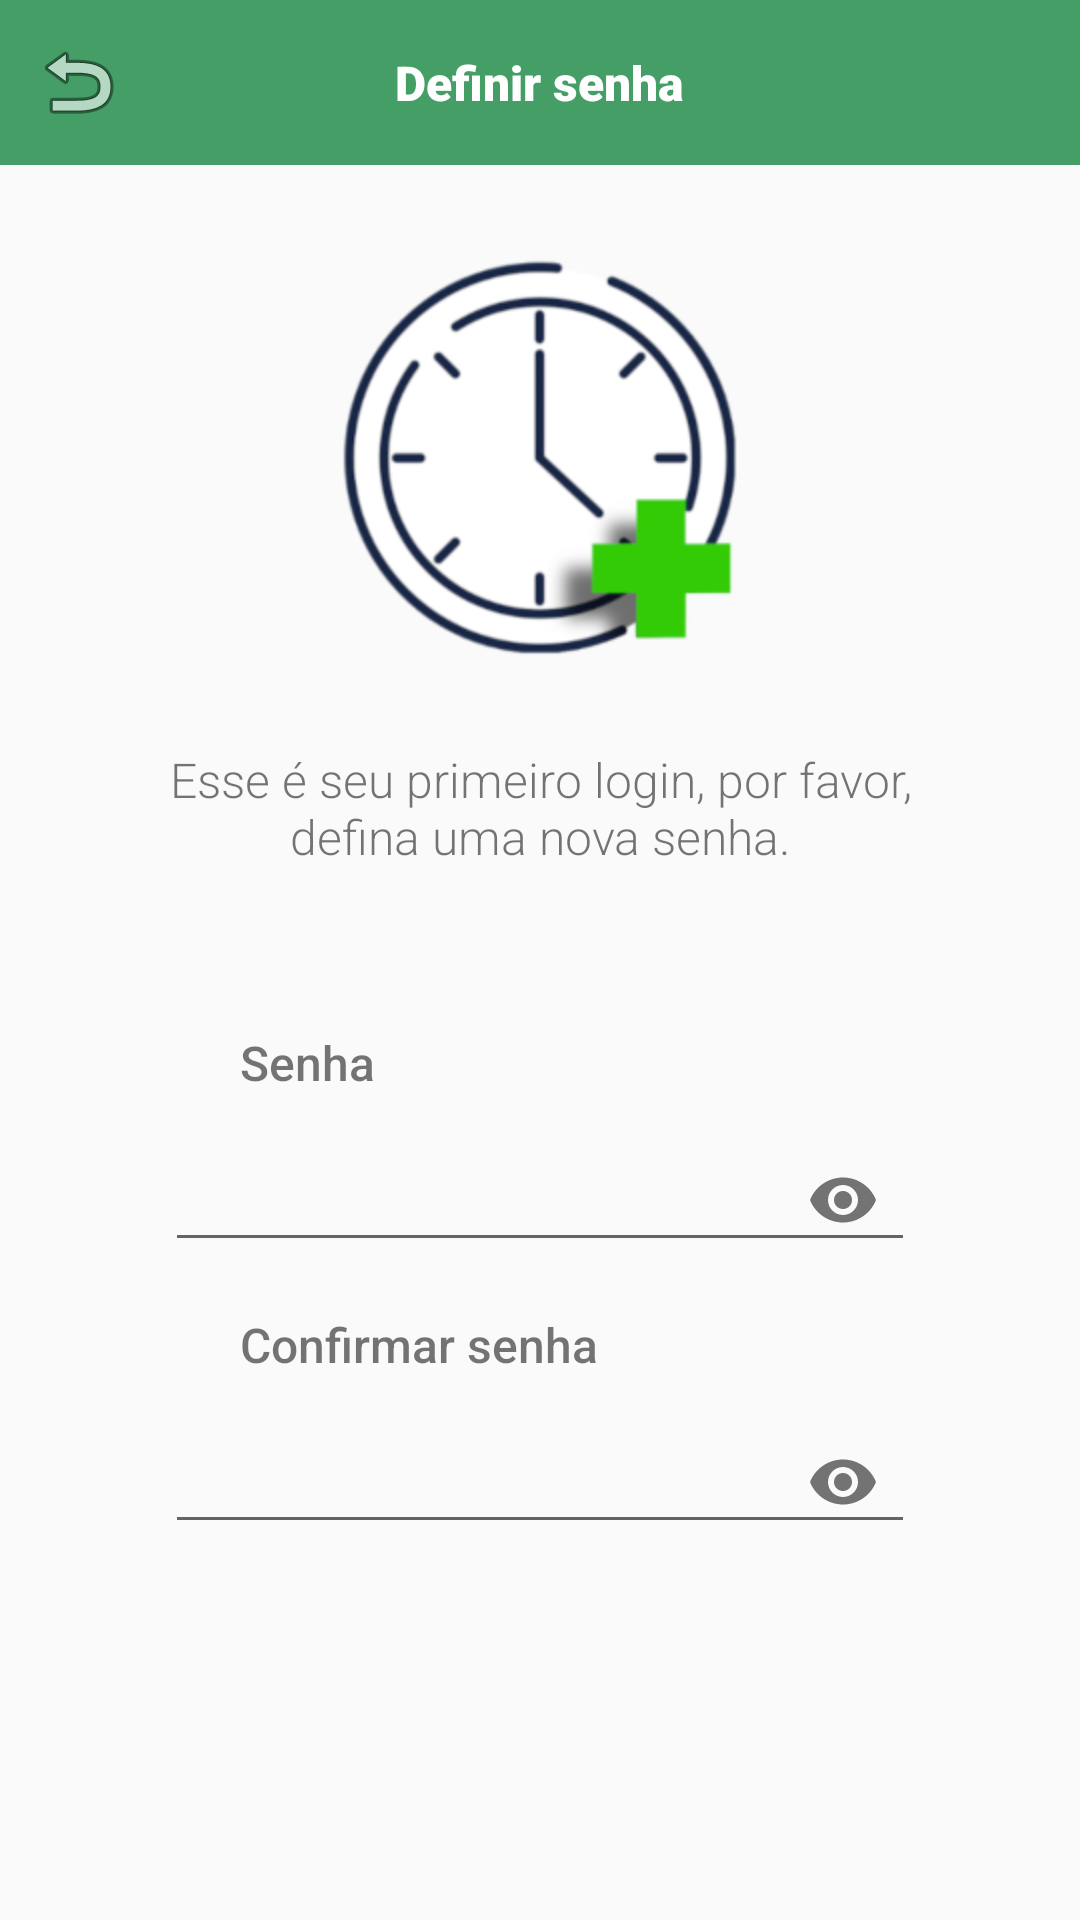

Screen size 1080 x 1920. Icon name, then its center in pixels as [x,y]:
revert: [79,83]
